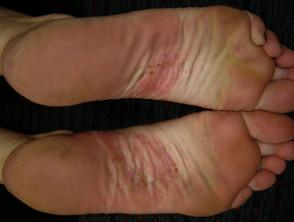Eczema: (102, 126, 126, 148), (158, 53, 178, 74), (106, 144, 125, 166), (136, 185, 154, 208), (163, 157, 181, 179), (229, 40, 248, 58), (149, 31, 166, 51), (133, 132, 153, 149), (144, 150, 161, 170), (120, 166, 136, 187), (162, 148, 178, 168), (134, 78, 151, 96), (124, 80, 141, 98), (142, 58, 161, 74), (120, 129, 136, 148), (132, 152, 147, 172), (149, 174, 166, 191), (121, 180, 136, 199), (155, 138, 169, 158), (58, 142, 72, 162), (141, 67, 158, 83), (155, 68, 170, 86), (170, 68, 184, 87), (172, 52, 186, 70), (132, 174, 148, 189), (155, 80, 167, 99), (149, 193, 165, 205)
